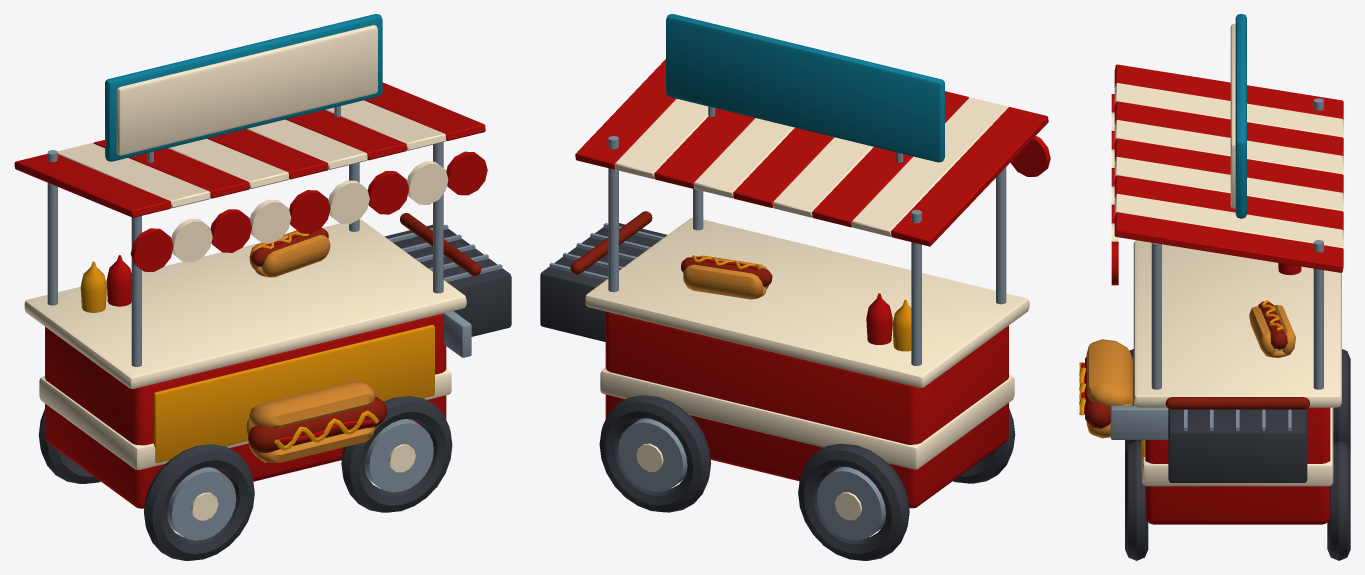
Rendered from HotDogStand.fbx.
The picture shows the model from 3 angles, left to right: view 1: azimuth 30°, elevation 25°; view 2: azimuth 150°, elevation 25°; view 3: azimuth 270°, elevation 25°; orthographic projection. The views are drawn at different scales.
Visible parts, largest first — view 1: HotDogStand; view 2: HotDogStand; view 3: HotDogStand.
Boxes of the visible parts, x1,y1,x2,y2 form: HotDogStand: (14, 14, 511, 560); HotDogStand: (540, 14, 1050, 560); HotDogStand: (1079, 14, 1350, 560).
Bounding box in the file's own units: 7.85 × 8.24 × 4.7.
